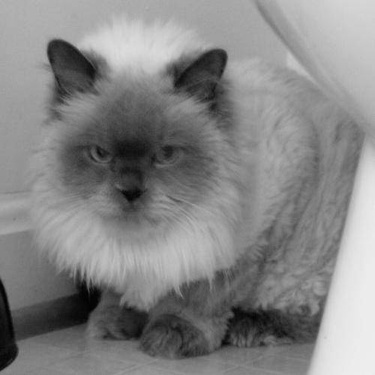cat: (34, 33, 366, 356)
